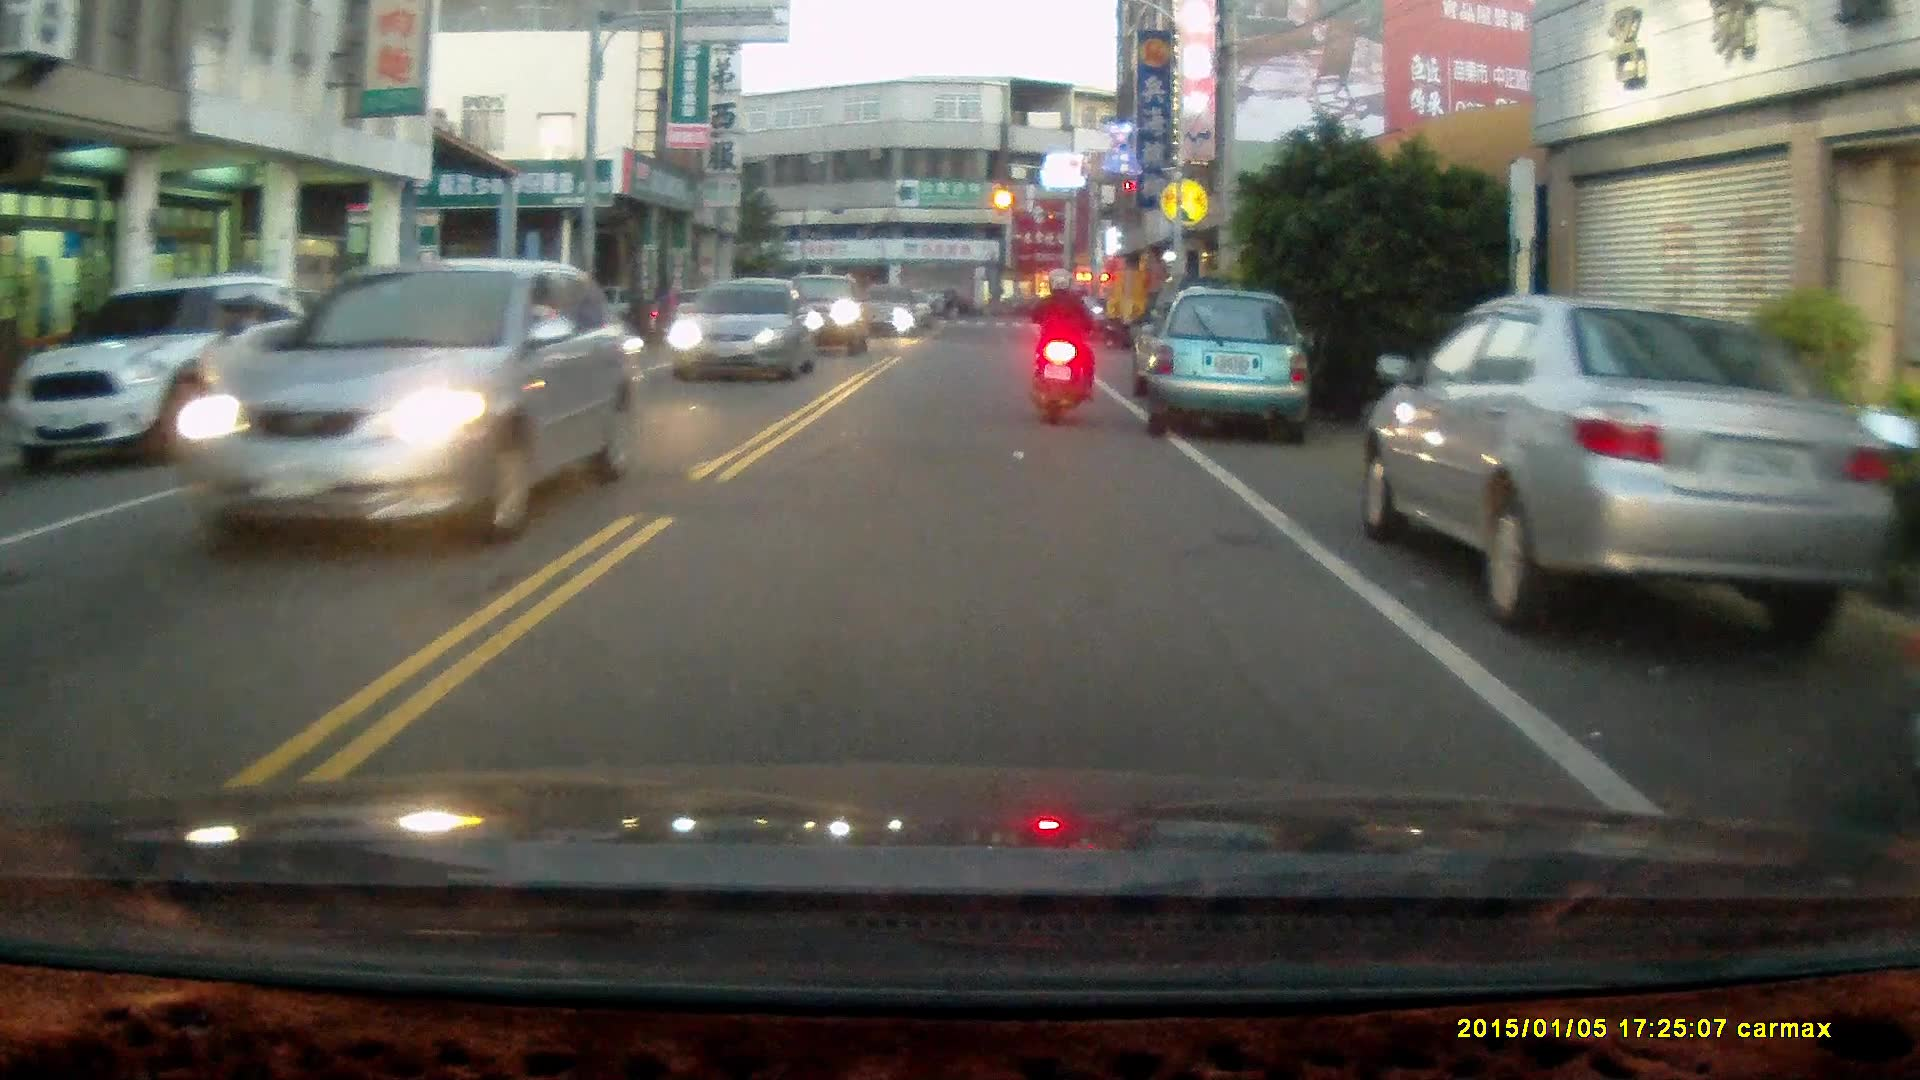pedestrian: (56, 297, 93, 369)
rider: (1029, 261, 1106, 423)
vehicle: (1359, 293, 1886, 645), (184, 256, 638, 542), (5, 271, 310, 479), (1144, 288, 1317, 440), (665, 279, 814, 386), (757, 267, 874, 361)
